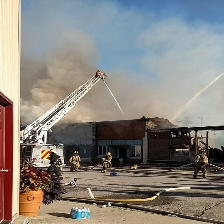smoke: (22, 38, 111, 127)
